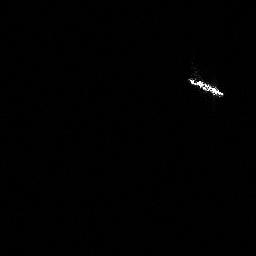ship: (183, 74, 228, 100)
